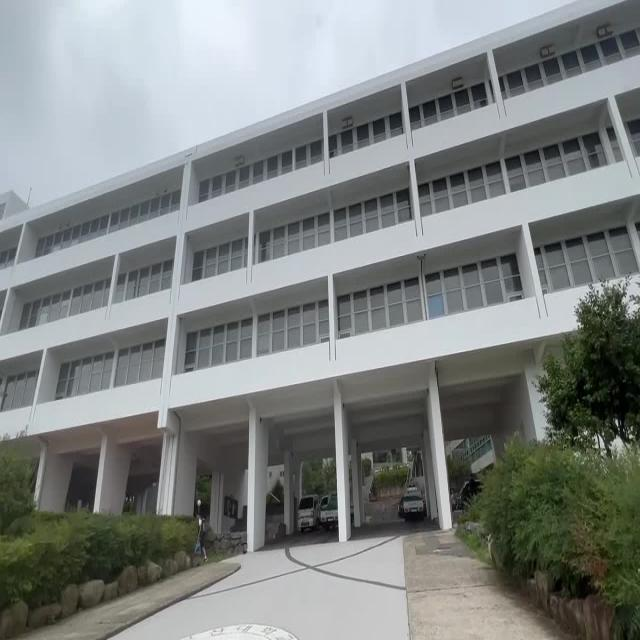building: (38, 68, 534, 407)
